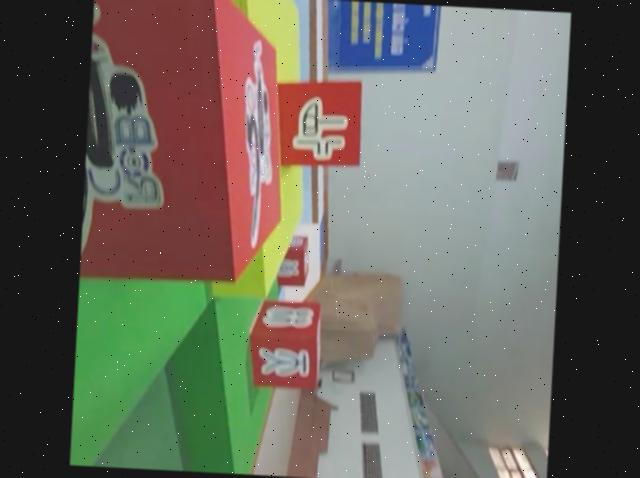R1: (78, 0, 295, 291)
R2 Fake: (244, 297, 327, 395)
R2 Real: (273, 74, 367, 172)
